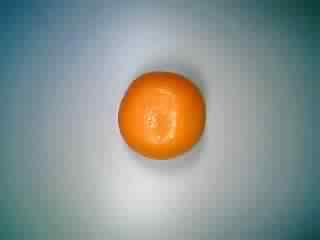orange: (112, 65, 209, 163)
